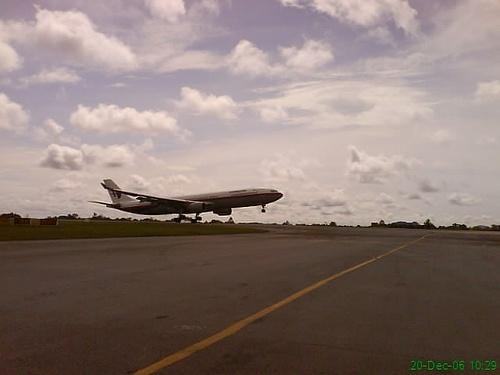aeroplane: (93, 177, 283, 226)
